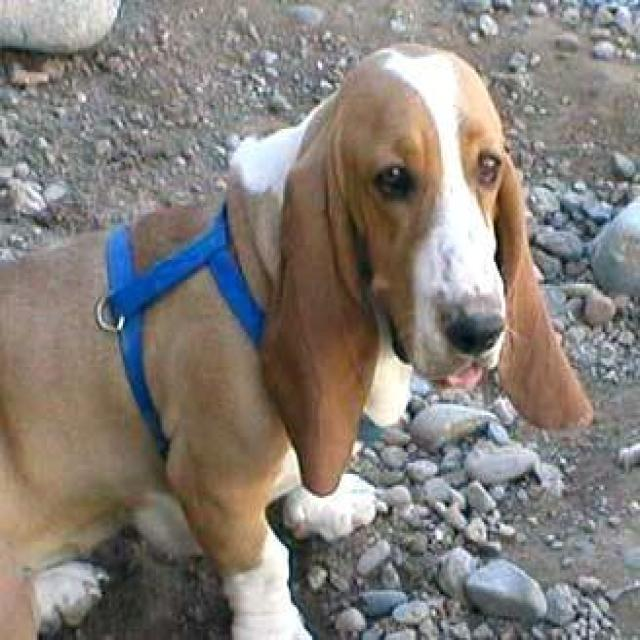basset: (2, 46, 595, 638)
